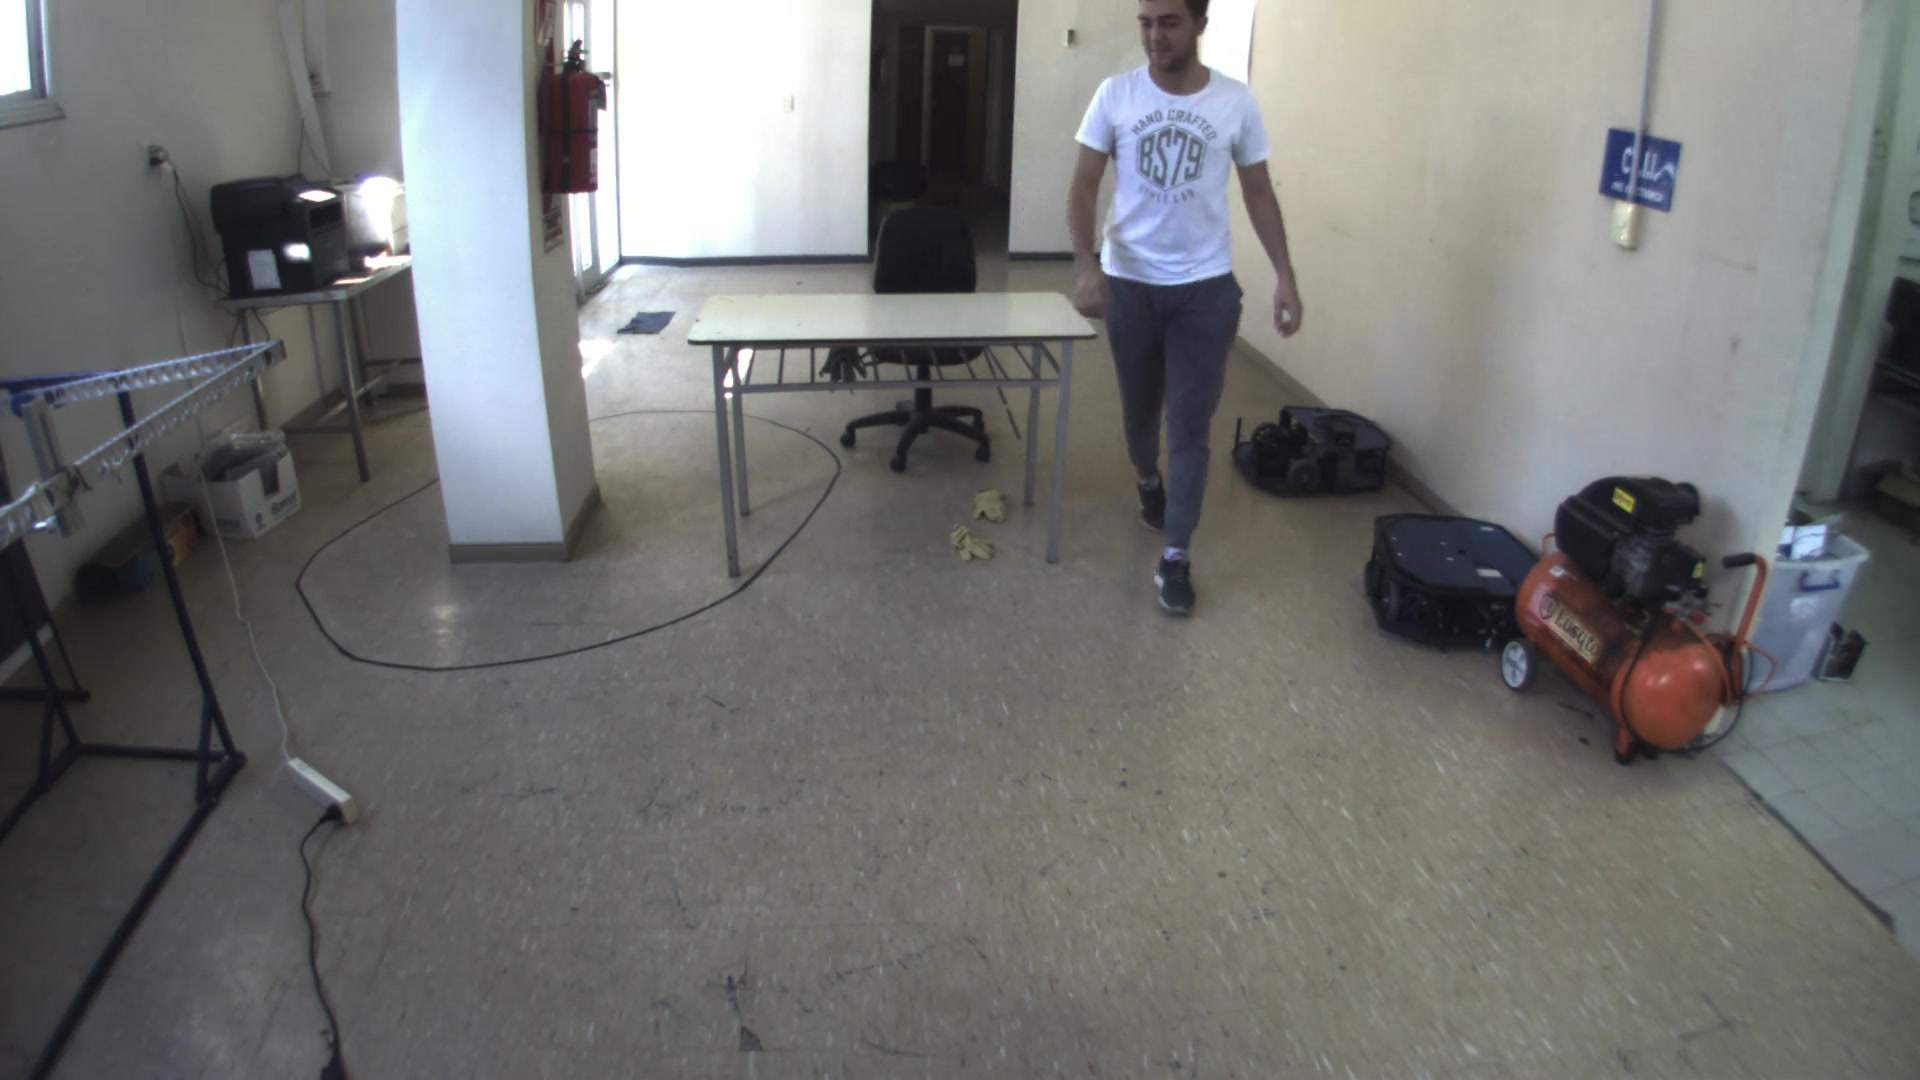hand: (1276, 265, 1317, 340), (1051, 272, 1110, 323)
